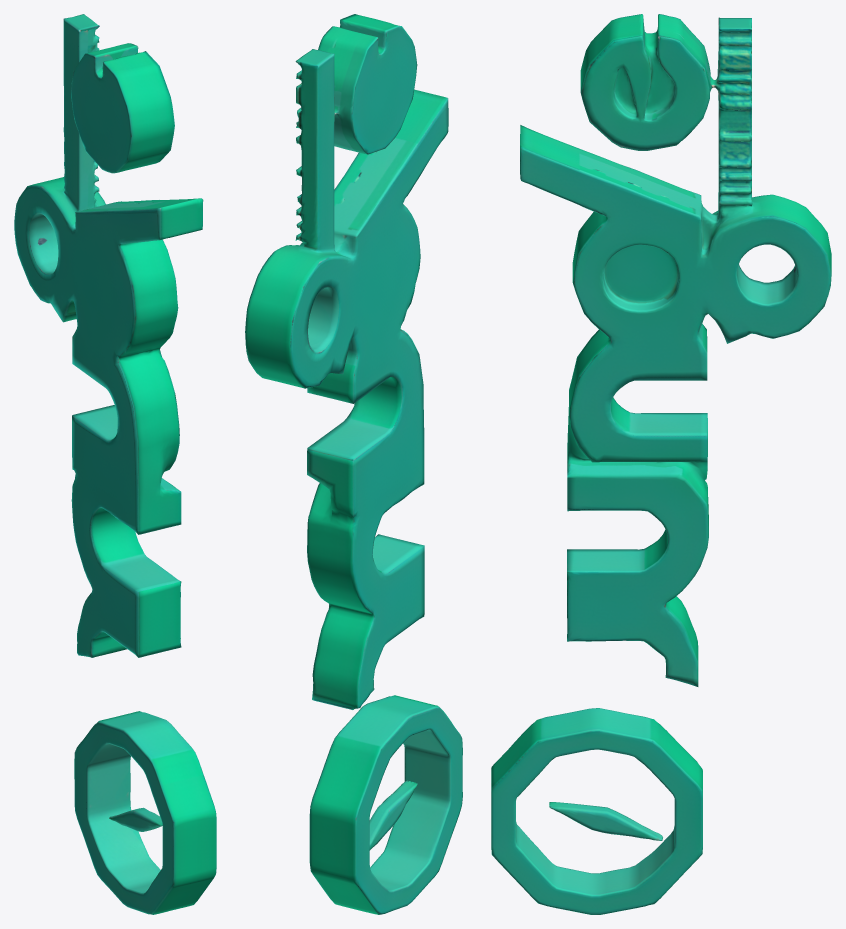
File: Jungle.obj
3 renders of one model, left to right at view 1: azimuth 30°, elevation 25°; view 2: azimuth 150°, elevation 25°; view 3: azimuth 270°, elevation 25°, orthographic. The views are drawn at different scales.
Visible parts, largest first — view 1: model; view 2: model; view 3: model.
Boxes of the visible parts, x1,y1,x2,y2 form: model: (14,14,216,914); model: (245,14,462,914); model: (491,14,831,914).
Bounding box in the file's own units: 0.1036 × 1.9 × 0.6641.
1 material, 1 textured.
